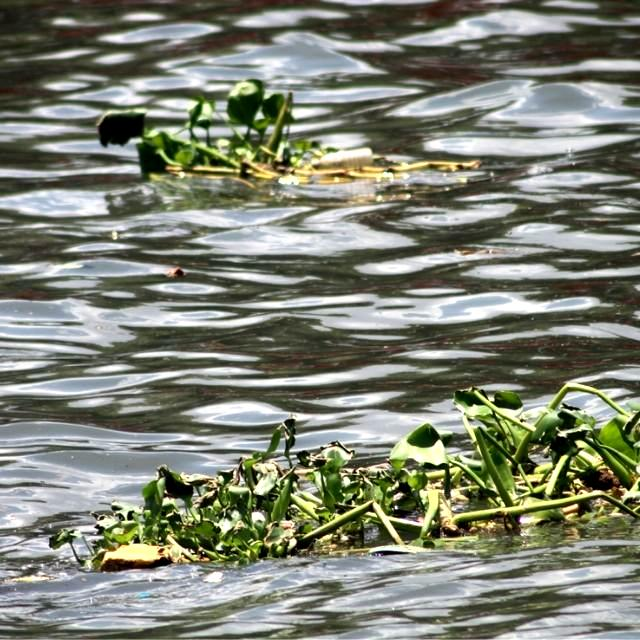water-hyacinth: (46, 387, 640, 574), (99, 67, 486, 190)
